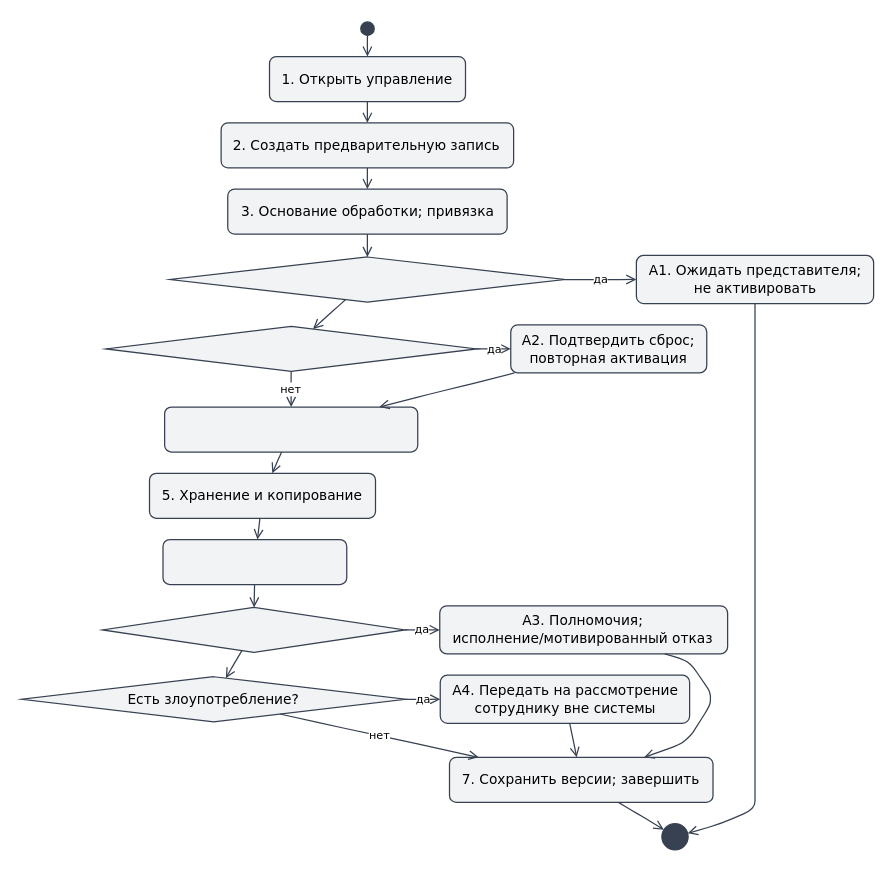
Image size: 896x873. Some labels were removed from this diagram. Here are the shapes that lost their labels. From the top down, the centre of each, then its label:
At (x=367, y=279): "Нужно подтверждение?".
At (x=291, y=348): "Меняется устройство?".
At (x=290, y=429): "4. Настроить риск и опоздание".
At (x=254, y=561): "6. Просмотреть аудит".
At (x=253, y=629): "Запрос о данных?".
